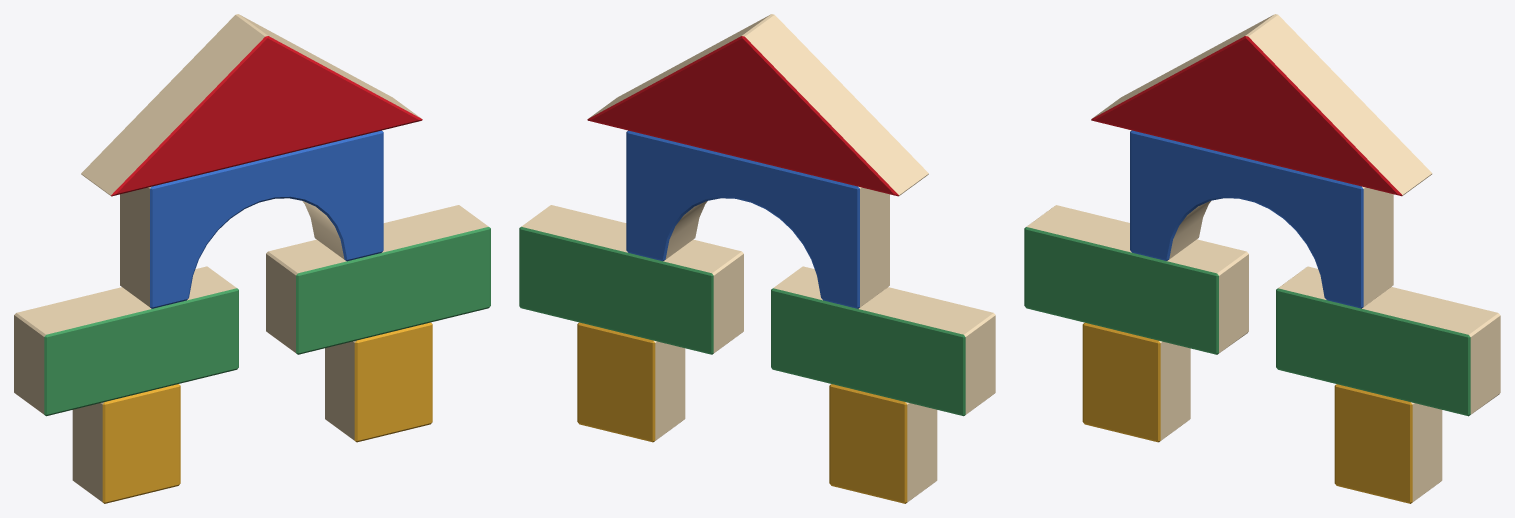
Rendered from WoodBlocks_Castle_00.FBX.
3 renders of one model, left to right at view 1: azimuth 30°, elevation 25°; view 2: azimuth 150°, elevation 25°; view 3: azimuth 330°, elevation 25°, orthographic.
Parts seen in each view (by area): view 1: WoodBlocks_Cuboid_Rd_00, WoodBlocks_Cuboid_Bl_00, WoodBlocks_Cuboid_Gr_B_00, WoodBlocks_Cuboid_Gr_A_00, WoodBlocks_Cuboid_Ye_A_00, WoodBlocks_Cuboid_Ye_B_00; view 2: WoodBlocks_Cuboid_Rd_00, WoodBlocks_Cuboid_Bl_00, WoodBlocks_Cuboid_Gr_B_00, WoodBlocks_Cuboid_Gr_A_00, WoodBlocks_Cuboid_Ye_A_00, WoodBlocks_Cuboid_Ye_B_00; view 3: WoodBlocks_Cuboid_Rd_00, WoodBlocks_Cuboid_Bl_00, WoodBlocks_Cuboid_Gr_A_00, WoodBlocks_Cuboid_Gr_B_00, WoodBlocks_Cuboid_Ye_A_00, WoodBlocks_Cuboid_Ye_B_00.
Boxes of the visible parts, x1,y1,x2,y2 form: WoodBlocks_Cuboid_Rd_00: (81, 14, 422, 196); WoodBlocks_Cuboid_Bl_00: (120, 130, 383, 308); WoodBlocks_Cuboid_Gr_B_00: (266, 205, 490, 354); WoodBlocks_Cuboid_Gr_A_00: (14, 266, 238, 416); WoodBlocks_Cuboid_Ye_A_00: (72, 384, 180, 503); WoodBlocks_Cuboid_Ye_B_00: (325, 322, 432, 442); WoodBlocks_Cuboid_Rd_00: (587, 14, 928, 196); WoodBlocks_Cuboid_Bl_00: (626, 130, 889, 308); WoodBlocks_Cuboid_Gr_B_00: (519, 205, 743, 354); WoodBlocks_Cuboid_Gr_A_00: (771, 266, 995, 416); WoodBlocks_Cuboid_Ye_A_00: (829, 384, 937, 503); WoodBlocks_Cuboid_Ye_B_00: (577, 322, 685, 442); WoodBlocks_Cuboid_Rd_00: (1091, 14, 1432, 196); WoodBlocks_Cuboid_Bl_00: (1130, 130, 1393, 308); WoodBlocks_Cuboid_Gr_A_00: (1024, 205, 1248, 354); WoodBlocks_Cuboid_Gr_B_00: (1276, 266, 1500, 416); WoodBlocks_Cuboid_Ye_A_00: (1082, 322, 1190, 442); WoodBlocks_Cuboid_Ye_B_00: (1334, 384, 1442, 503).
Size of the model in its own units: 11.46 by 10.5 by 1.4.
